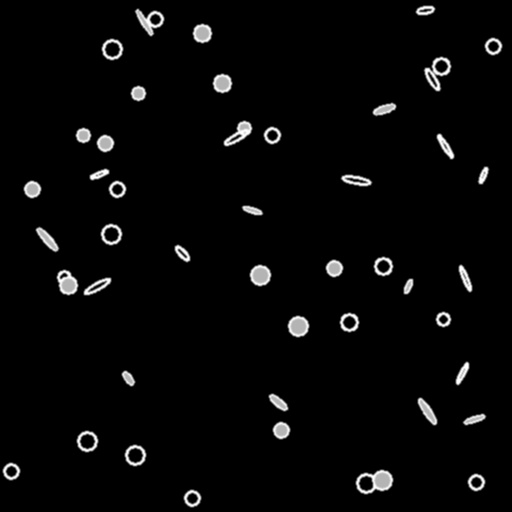pseudomonas: (35, 226, 59, 252), (416, 397, 438, 425), (83, 276, 111, 296), (134, 9, 154, 35), (223, 127, 249, 147), (436, 133, 454, 159), (423, 66, 441, 92), (457, 265, 473, 291), (268, 393, 288, 411), (372, 102, 396, 116), (173, 244, 191, 262), (455, 362, 469, 384), (342, 175, 370, 185), (121, 370, 135, 386), (477, 166, 489, 184), (90, 168, 108, 180), (464, 414, 484, 424), (242, 205, 262, 215), (403, 278, 413, 294), (417, 6, 433, 14)
synechocystis: (357, 474, 375, 492), (251, 266, 269, 284), (373, 471, 391, 489), (102, 225, 120, 243), (78, 432, 96, 450), (126, 446, 144, 464), (289, 317, 307, 335), (103, 40, 121, 58), (194, 25, 210, 41), (341, 314, 357, 330), (214, 75, 230, 91), (375, 258, 391, 274), (433, 58, 449, 74), (60, 277, 76, 293), (148, 12, 162, 26), (110, 182, 124, 196), (185, 491, 199, 505), (274, 423, 288, 437), (486, 39, 500, 53), (25, 182, 39, 196), (469, 475, 483, 489), (98, 136, 112, 150), (327, 261, 341, 275), (4, 464, 18, 478), (265, 128, 279, 142), (437, 313, 449, 325), (238, 122, 250, 134), (77, 129, 89, 141), (132, 87, 144, 99), (58, 271, 70, 283)
